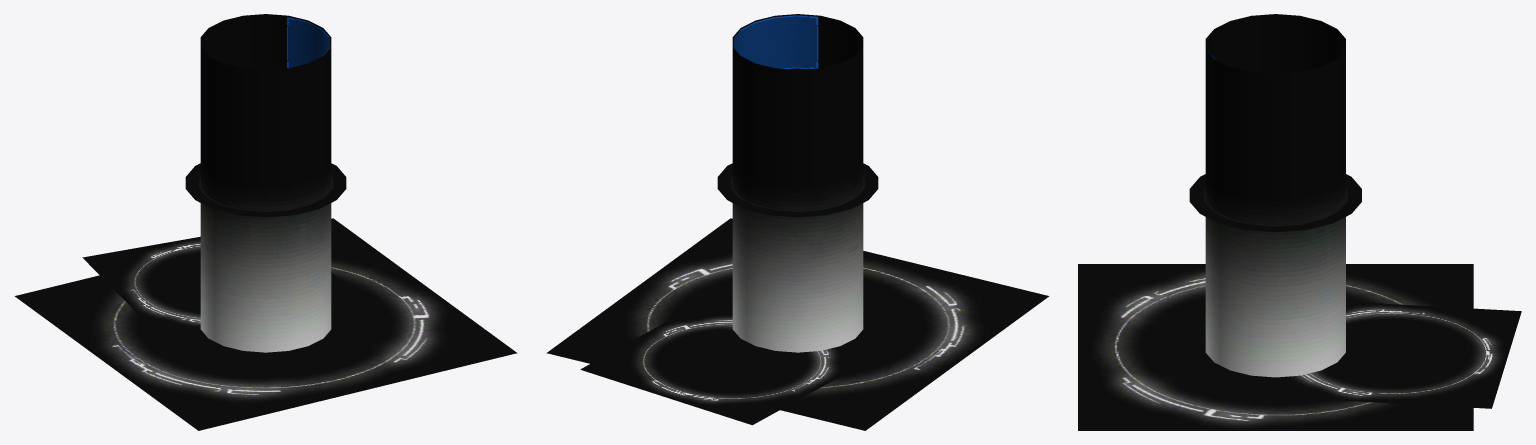
The model's file is Effect_1021tshow.fbx.
The picture shows the model from 3 angles, left to right: view 1: azimuth 30°, elevation 25°; view 2: azimuth 150°, elevation 25°; view 3: azimuth 270°, elevation 25°; orthographic projection. The views are drawn at different scales.
Parts seen in each view (by area): view 1: Effect_1021tshow03, Effect_1021tshow01, Effect_1021tshow02, Effect_1021tshow07; view 2: Effect_1021tshow03, Effect_1021tshow01, Effect_1021tshow02, Effect_1021tshow07; view 3: Effect_1021tshow03, Effect_1021tshow01, Effect_1021tshow02.
Part boxes in pixels (x1,y1,x2,y2): Effect_1021tshow03: [185, 14, 346, 352]; Effect_1021tshow01: [14, 218, 517, 430]; Effect_1021tshow02: [82, 236, 360, 342]; Effect_1021tshow07: [286, 16, 330, 68]; Effect_1021tshow03: [717, 14, 878, 352]; Effect_1021tshow01: [546, 218, 1049, 430]; Effect_1021tshow02: [580, 301, 883, 425]; Effect_1021tshow07: [733, 15, 818, 69]; Effect_1021tshow03: [1189, 14, 1361, 377]; Effect_1021tshow01: [1078, 264, 1473, 430]; Effect_1021tshow02: [1276, 301, 1521, 408].
Bounding box in the file's own units: 2.95 × 2.53 × 3.31.
5 materials, 5 textured.
